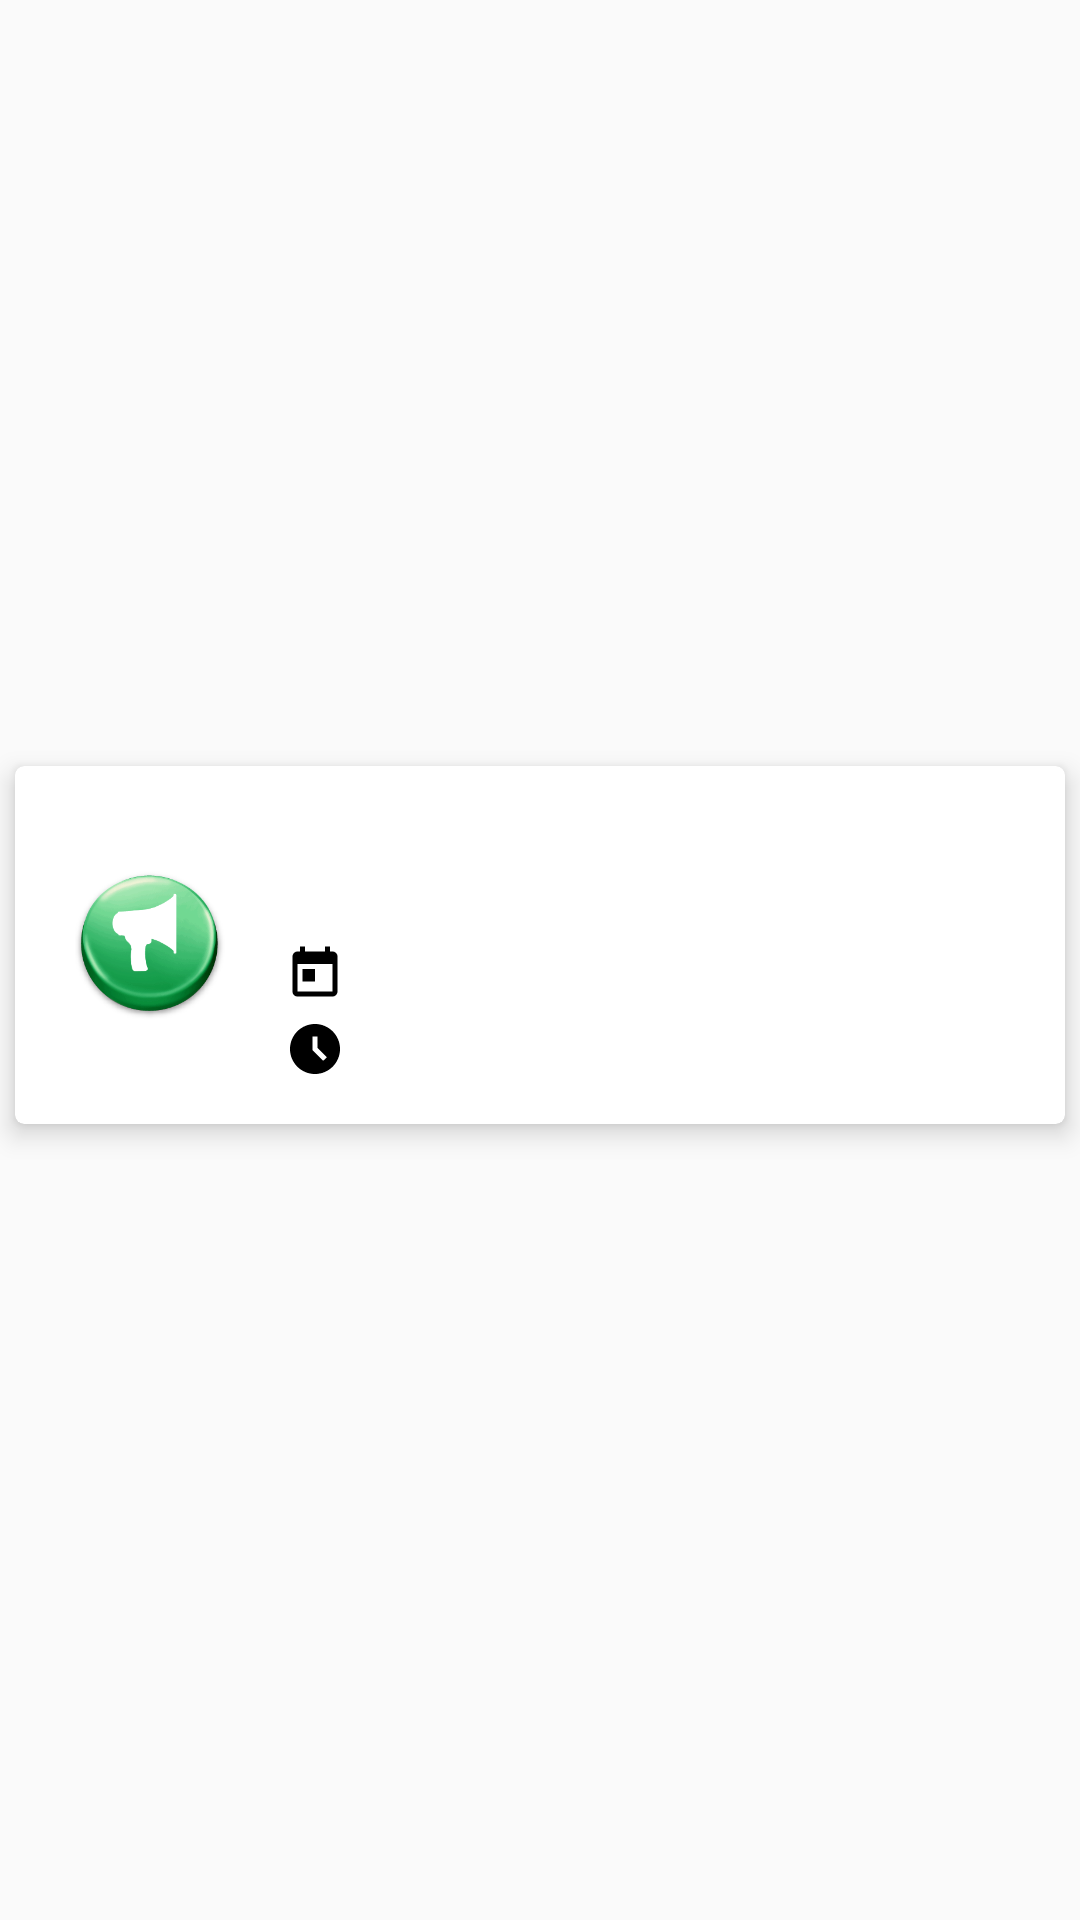

Named icons in this screenshot (1080*1920) and their bounding boxes, (x1, y1, x2, y2):
announce: (79, 875, 221, 1015)
